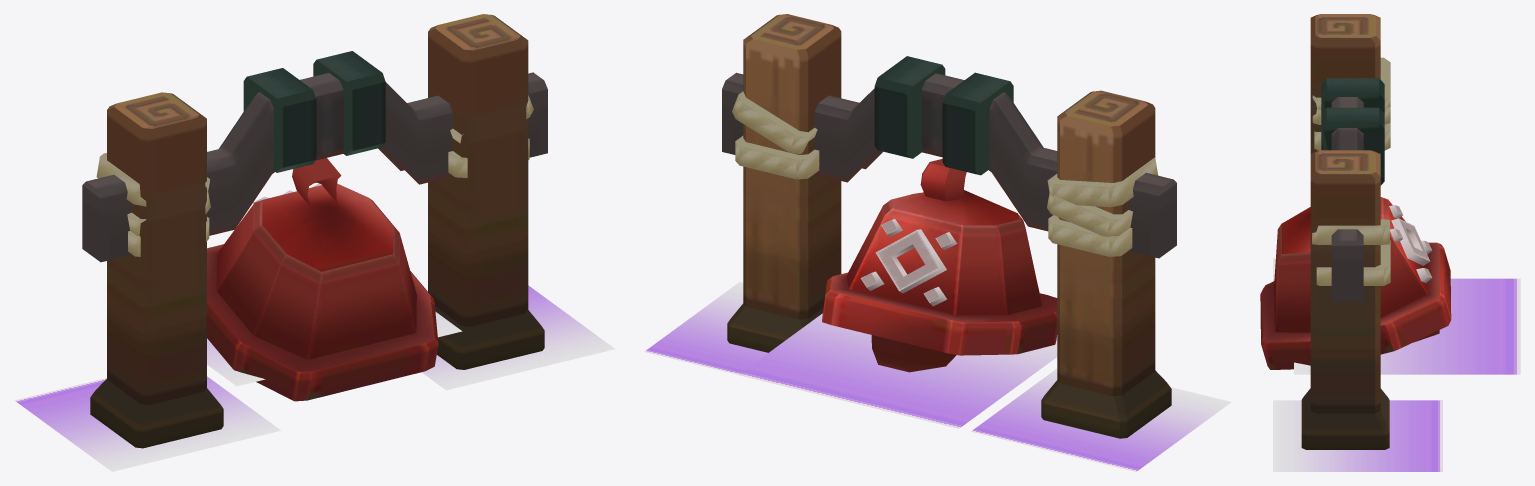
File: [gimmick]bell_red.fbx
3 views of the same model, side by side, from view 1: azimuth 30°, elevation 25°; view 2: azimuth 150°, elevation 25°; view 3: azimuth 270°, elevation 25° (orthographic). The views are drawn at different scales.
Visible parts, largest first — view 1: [gimmick]bell_red, bell_red, shadow2, shadow1, shadow; view 2: [gimmick]bell_red, bell_red, shadow, shadow2, shadow1; view 3: [gimmick]bell_red, bell_red, shadow, shadow1.
Boxes of the visible parts, <box> form: [gimmick]bell_red: <box>82,14,547,448</box>; bell_red: <box>207,158,438,401</box>; shadow2: <box>14,376,280,471</box>; shadow1: <box>422,285,615,390</box>; shadow: <box>207,311,462,386</box>; [gimmick]bell_red: <box>722,14,1176,438</box>; bell_red: <box>822,159,1057,372</box>; shadow: <box>738,313,1057,428</box>; shadow2: <box>971,368,1231,471</box>; shadow1: <box>644,282,767,374</box>; [gimmick]bell_red: <box>1301,14,1390,449</box>; bell_red: <box>1260,197,1451,369</box>; shadow: <box>1294,278,1520,374</box>; shadow1: <box>1273,400,1442,471</box>.
Size of the model in its own units: 2.68 by 1.59 by 1.38.
